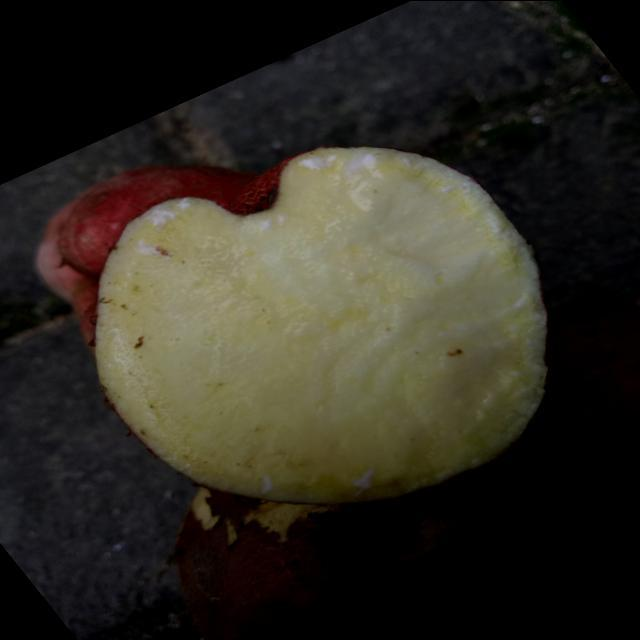Healthy Sweet Potato: (95, 146, 547, 502)
